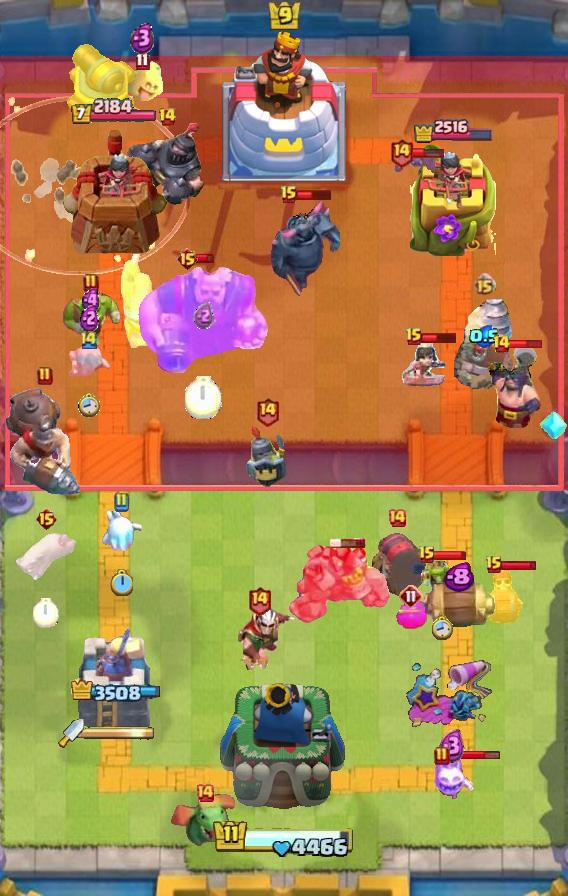bar: (75, 623, 153, 731)
barbarian-barrel: (395, 152, 435, 178)
bat: (100, 511, 142, 551), (66, 343, 112, 378)
bat-evolution: (120, 60, 164, 104)
cannoneer-tower: (284, 541, 390, 625)
clock: (212, 818, 356, 860)
electro-spirit: (443, 562, 473, 593), (439, 728, 465, 763), (130, 22, 154, 54), (469, 324, 500, 348), (193, 303, 215, 330), (81, 287, 104, 312), (81, 304, 100, 333)
electro-wizard: (171, 791, 239, 849)
elixir: (185, 376, 223, 419), (33, 598, 59, 628), (430, 614, 454, 640), (111, 569, 134, 596), (78, 393, 100, 419)
emote: (447, 750, 501, 762), (296, 188, 333, 201), (422, 331, 459, 344), (330, 537, 366, 549), (508, 338, 543, 350), (501, 560, 539, 571), (411, 147, 445, 159), (433, 551, 467, 562), (196, 252, 216, 263)
firecracker: (120, 254, 176, 351)
flying-machine: (60, 288, 122, 348)
giant: (13, 530, 79, 584)
golemite: (266, 197, 340, 299)
guard: (0, 96, 192, 275)
king-tower: (219, 678, 349, 826), (222, 31, 346, 181)
king-tower-bar: (84, 726, 156, 740)
knight: (483, 570, 533, 626)
lightning: (132, 264, 276, 378)
magic-archer: (454, 298, 514, 390)
miner: (395, 599, 427, 629)
mirror: (428, 753, 476, 801)
monk: (486, 343, 544, 429)
pad_2: (540, 408, 568, 442)
princess: (245, 424, 289, 490)
queen-tower: (59, 128, 169, 256), (410, 144, 496, 255)
royal-giant-evolution: (363, 529, 431, 599)
royal-guardian: (127, 122, 207, 208)
royal-recruit: (64, 38, 138, 124)
selected: (70, 98, 158, 126), (68, 678, 160, 704), (412, 116, 494, 143)
skeleton-dragon: (399, 339, 451, 397)
skeleton-king: (220, 606, 298, 670)
text: (390, 137, 415, 168), (247, 585, 272, 616), (256, 396, 280, 427), (399, 584, 423, 608), (177, 247, 200, 271), (35, 507, 58, 531), (473, 272, 496, 295), (79, 329, 99, 350), (387, 508, 407, 528), (195, 783, 215, 803), (159, 107, 178, 127), (493, 334, 512, 354), (280, 185, 298, 205), (405, 327, 423, 347), (418, 545, 436, 565), (485, 555, 503, 575), (83, 273, 99, 293), (37, 366, 53, 386), (113, 492, 129, 512), (434, 746, 450, 766), (135, 52, 149, 71)
the-log: (420, 581, 496, 631)
wizard: (5, 386, 85, 496)
zap: (420, 557, 462, 601)
